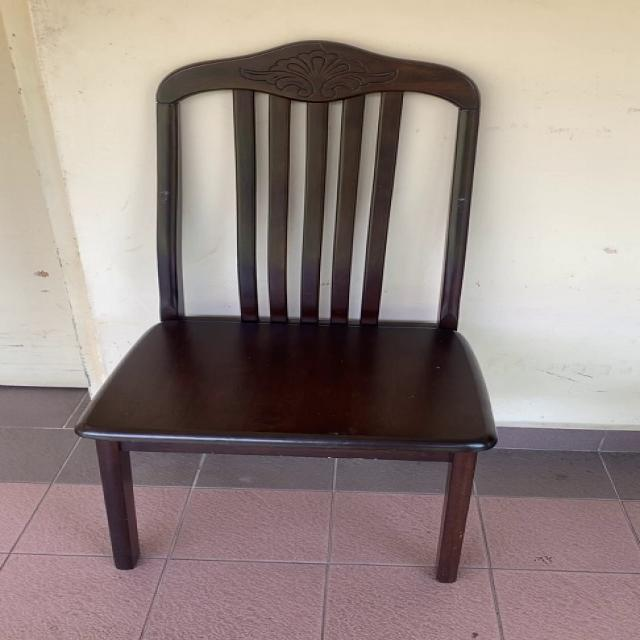Chair: (72, 37, 506, 587)
